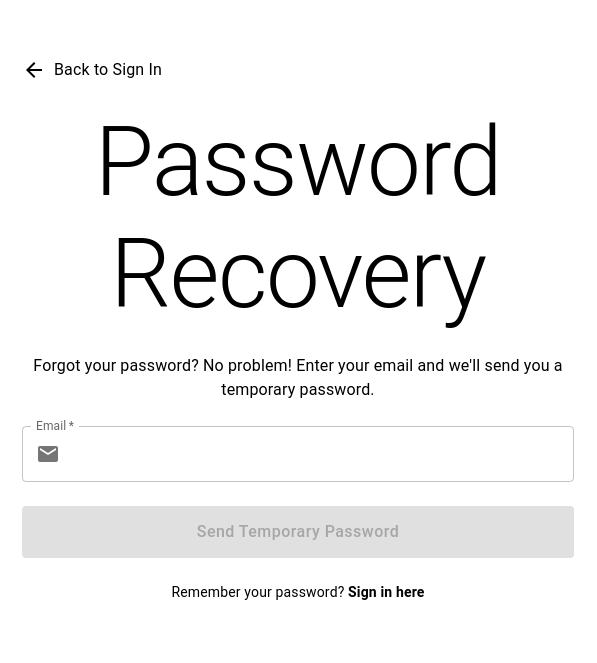
Scenario: PasswordRecoveryPage › Form Submission › should disable submit button while submitting
In the field labelled "Email *": [321, 454] box left=68, top=426, right=574, bottom=482, type "test@example.com"
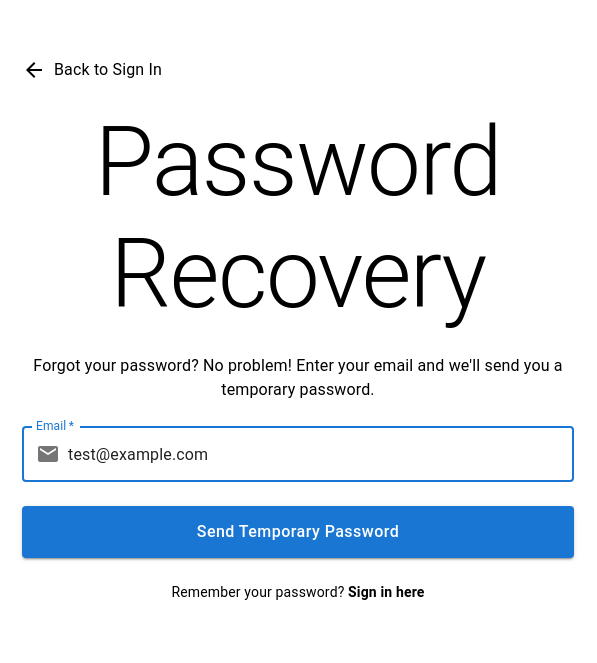
expect the button "Send Temporary Password" is enabled: met
Click the button "Send Temporary Password": [298, 532] box left=22, top=506, right=574, bottom=558
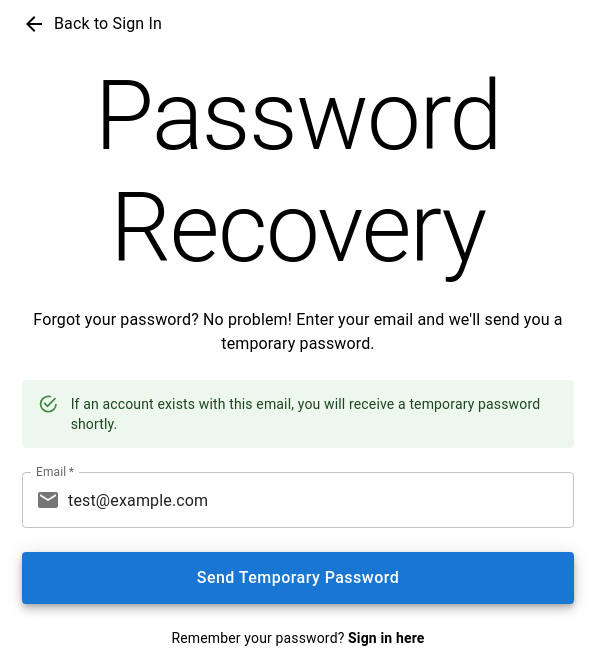
expect the text "If an account exists with this email" is shown: met, box left=71, top=396, right=540, bottom=432
